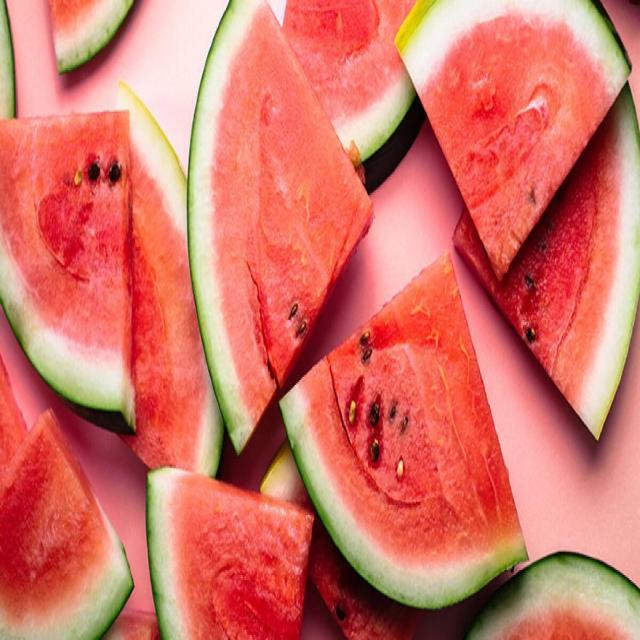watermelon: (274, 236, 540, 620), (181, 0, 381, 465), (443, 72, 640, 446), (386, 0, 636, 293), (0, 93, 151, 444), (133, 439, 324, 640), (0, 391, 148, 640)
